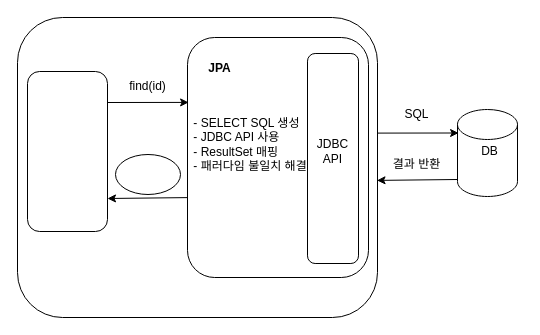
This 540x335 diagram has some shape labels left out. Each missing label, with the centre of its shape:
Entity Object: point (147, 174)
MemberDAO: point (67, 151)
